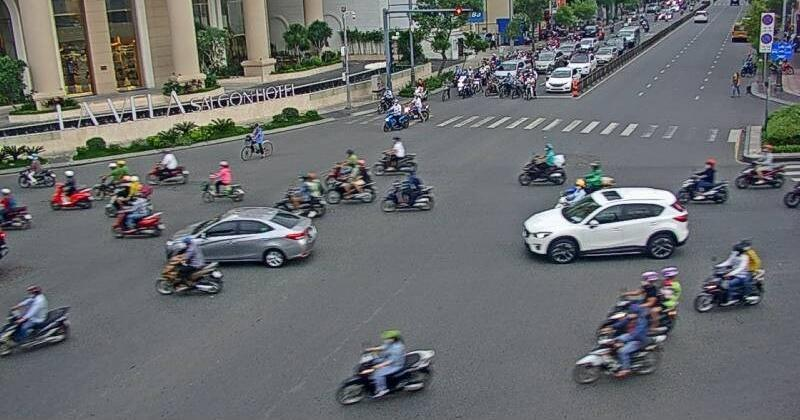xe dap: (240, 123, 274, 163)
xe hoi: (522, 187, 688, 264), (166, 206, 316, 268)
xe may: (336, 329, 434, 404), (0, 285, 70, 356), (380, 167, 434, 212), (518, 143, 566, 188), (49, 170, 94, 211)
